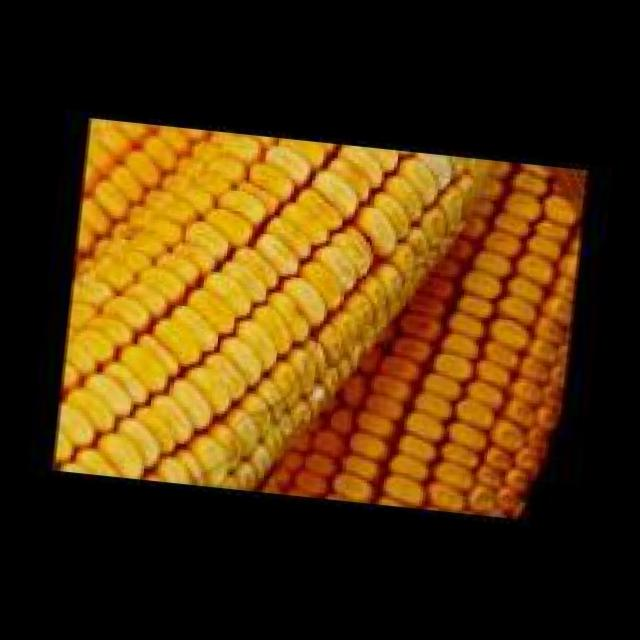corn: (46, 118, 573, 501)
